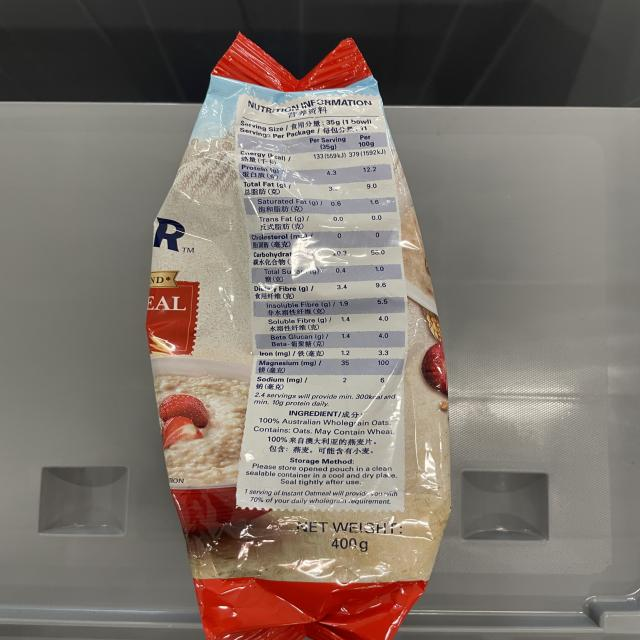object_name: (193, 60, 430, 634)
